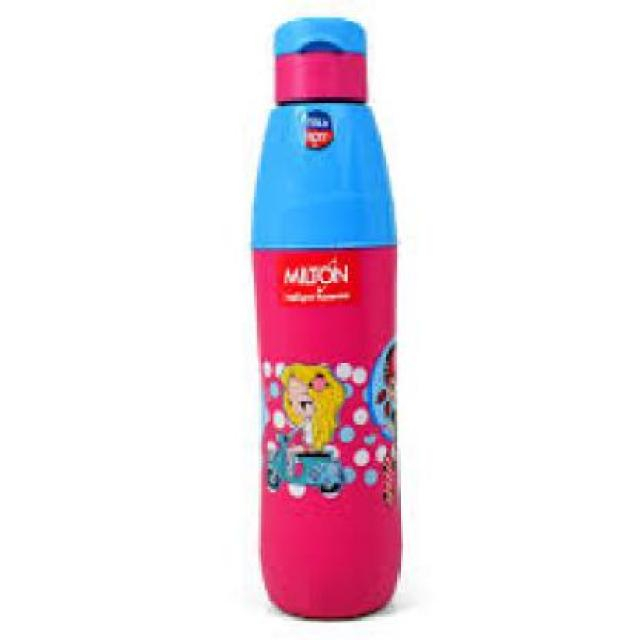Drinking: (246, 24, 412, 628)
